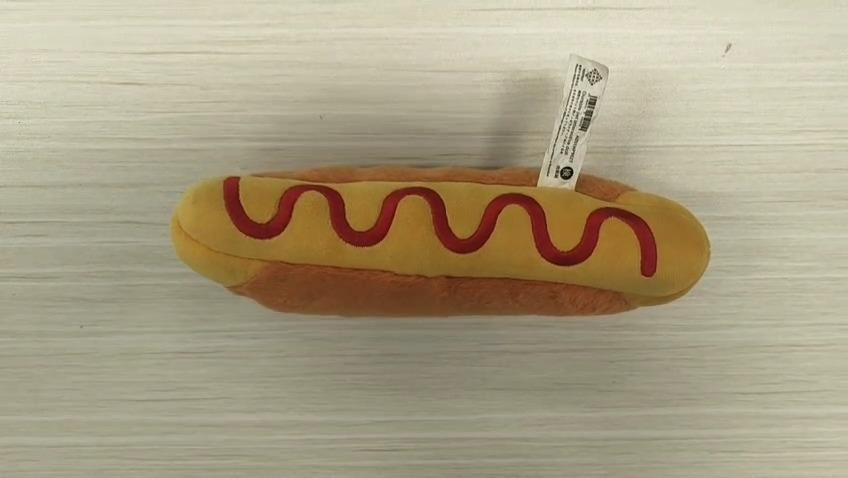hotdog: (170, 162, 711, 318)
